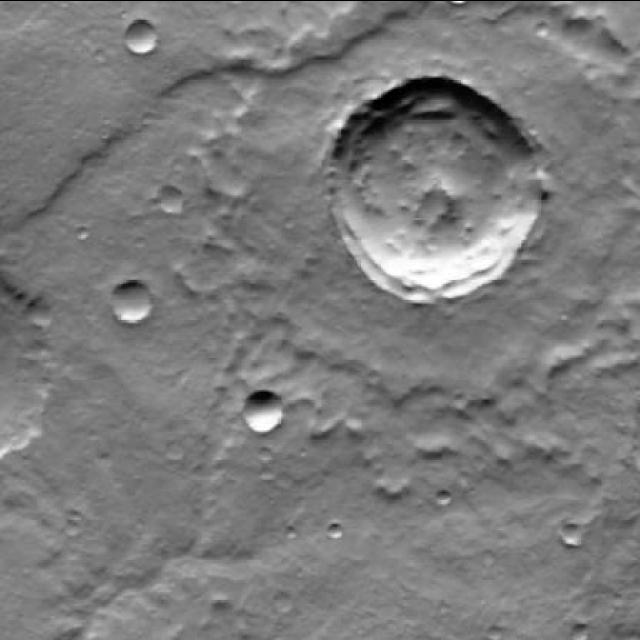crater: (328, 79, 542, 298), (0, 277, 62, 468), (112, 283, 154, 325), (243, 392, 285, 434), (127, 21, 158, 53), (155, 190, 183, 218), (562, 528, 582, 548), (276, 598, 294, 618), (436, 493, 452, 509), (445, 0, 467, 9), (286, 0, 306, 9)
